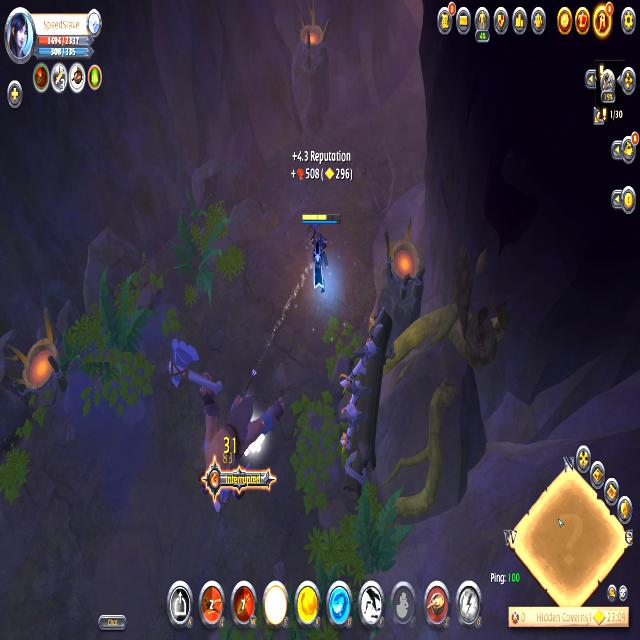red: (298, 207, 347, 308)
stone: (231, 405, 267, 462)
